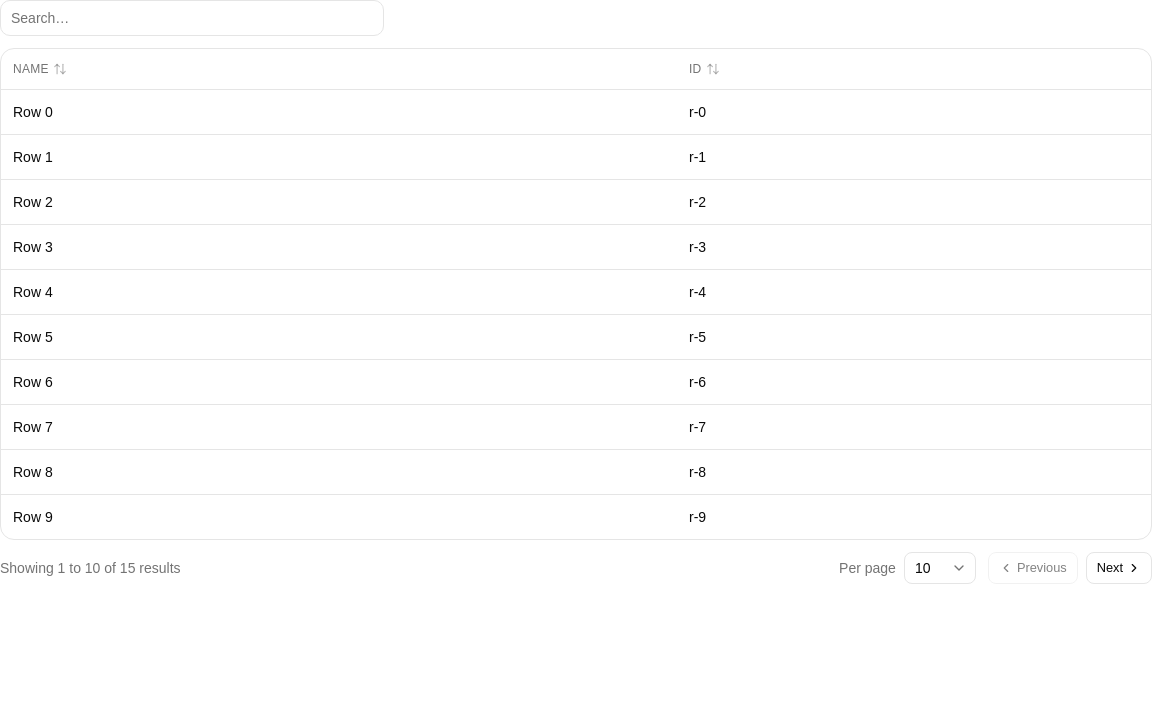
Scenario: DataTable › changes page size via the Per page select
This screenshot has width=1152, height=720.
Check: the text "Showing 1 to 10 of 15 results" is shown, box [0,558,181,578]
What coordinates should you click on to do the following:
click the dropdown
I would click on:
 (940, 568)
Its box is [904,552,976,584].
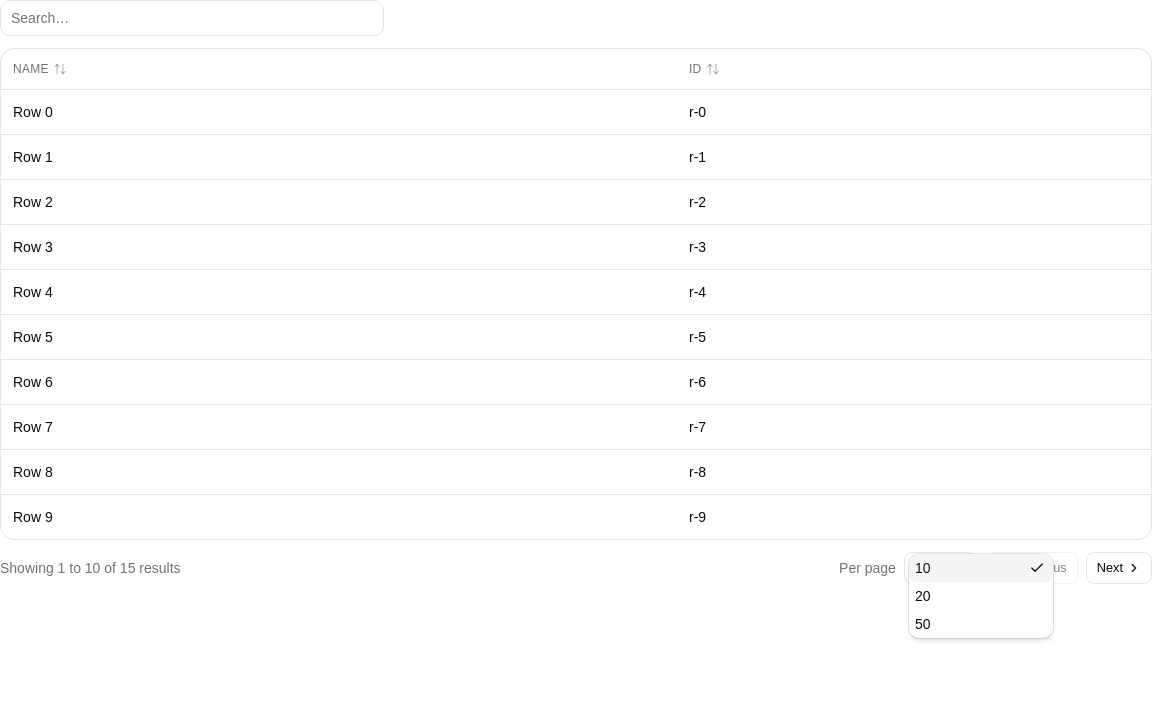
What coordinates should you click on to do the following:
click the option "20"
I would click on:
 (923, 596)
Its box is [915,588,930,604].
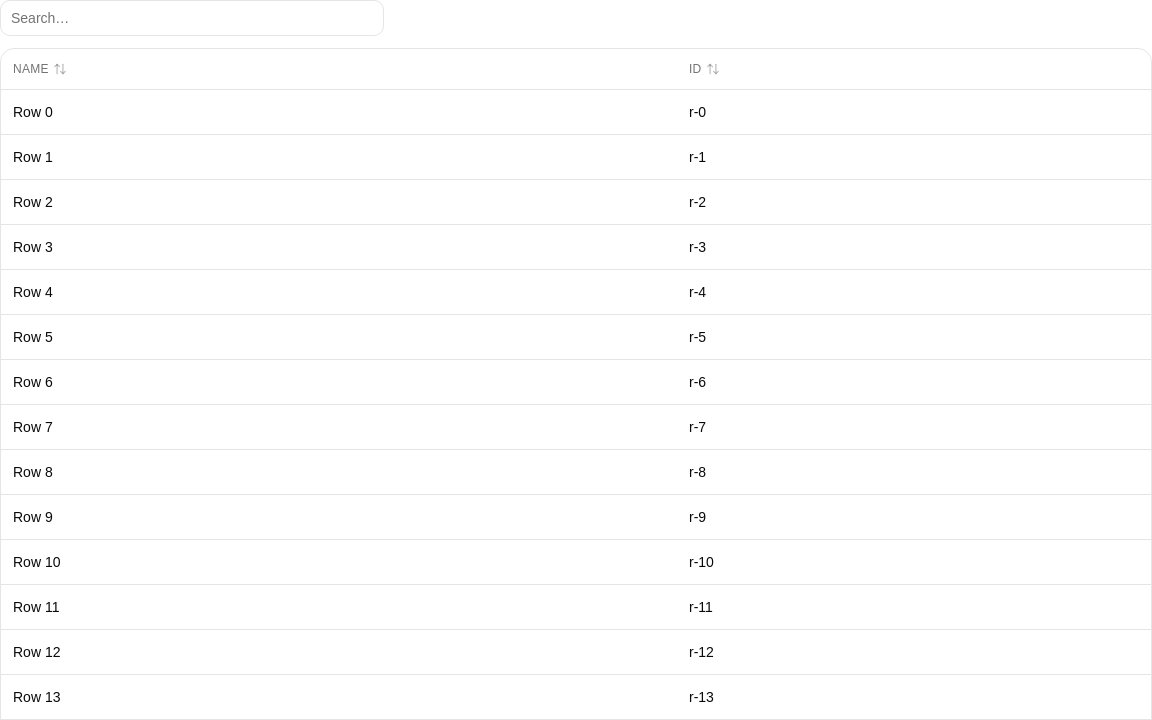
Check: the text "Row 10" is shown, box [1,539,677,584]
